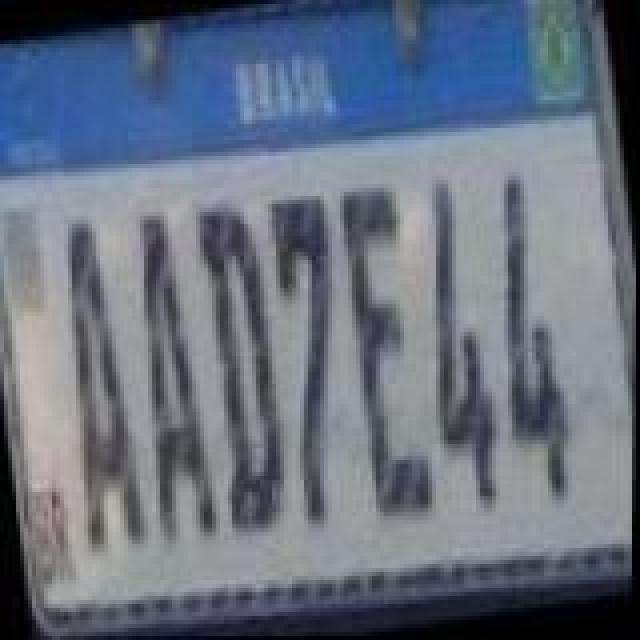4: (404, 174, 512, 510), (470, 170, 578, 506)
7: (260, 186, 368, 526)
A: (116, 198, 224, 546), (44, 210, 152, 554)
D: (186, 196, 298, 540)
E: (330, 172, 442, 520)
